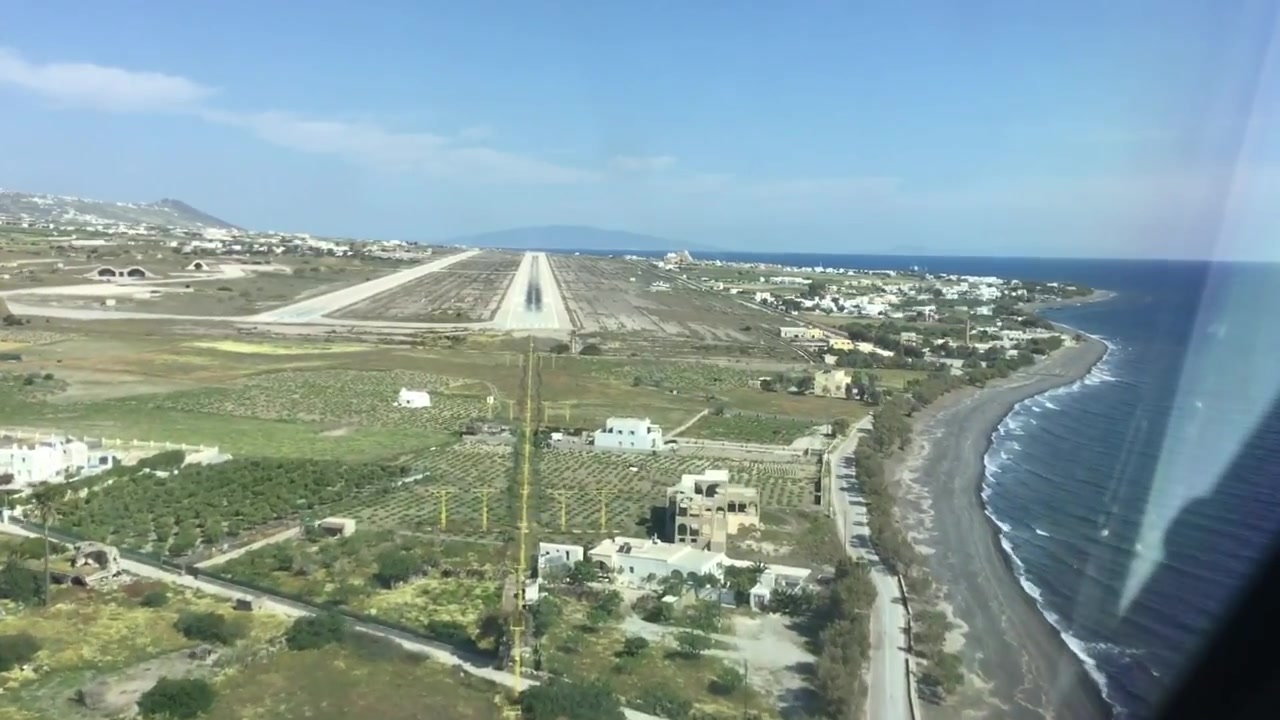entrance: (512, 321, 556, 329)
runway: (271, 252, 471, 319), (490, 251, 572, 332)
